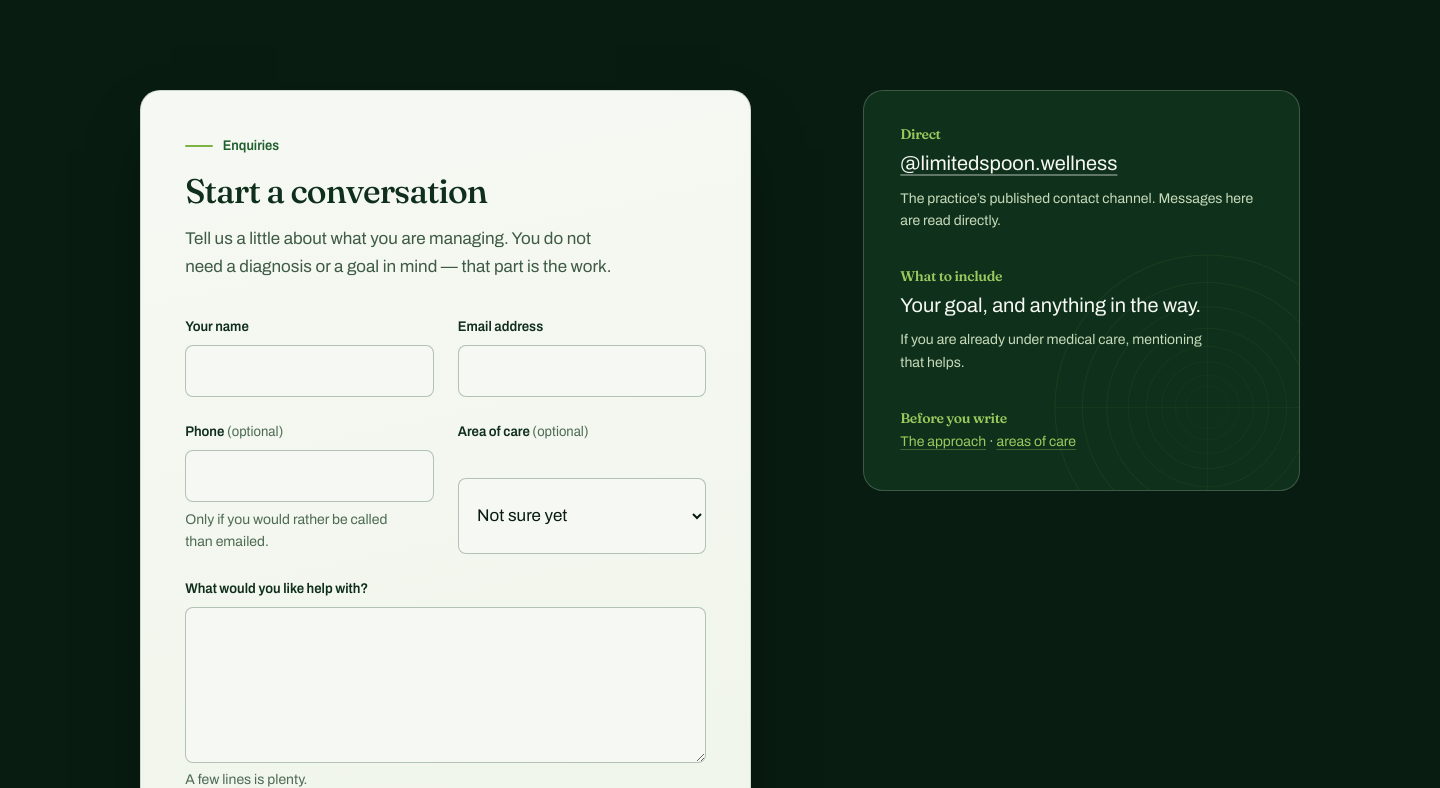
Contact enquiry form › requires meaningful copy, not a single character
Type "Priya Raman" into the field labelled "Your name" at (310, 371), box [185,345,434,397]
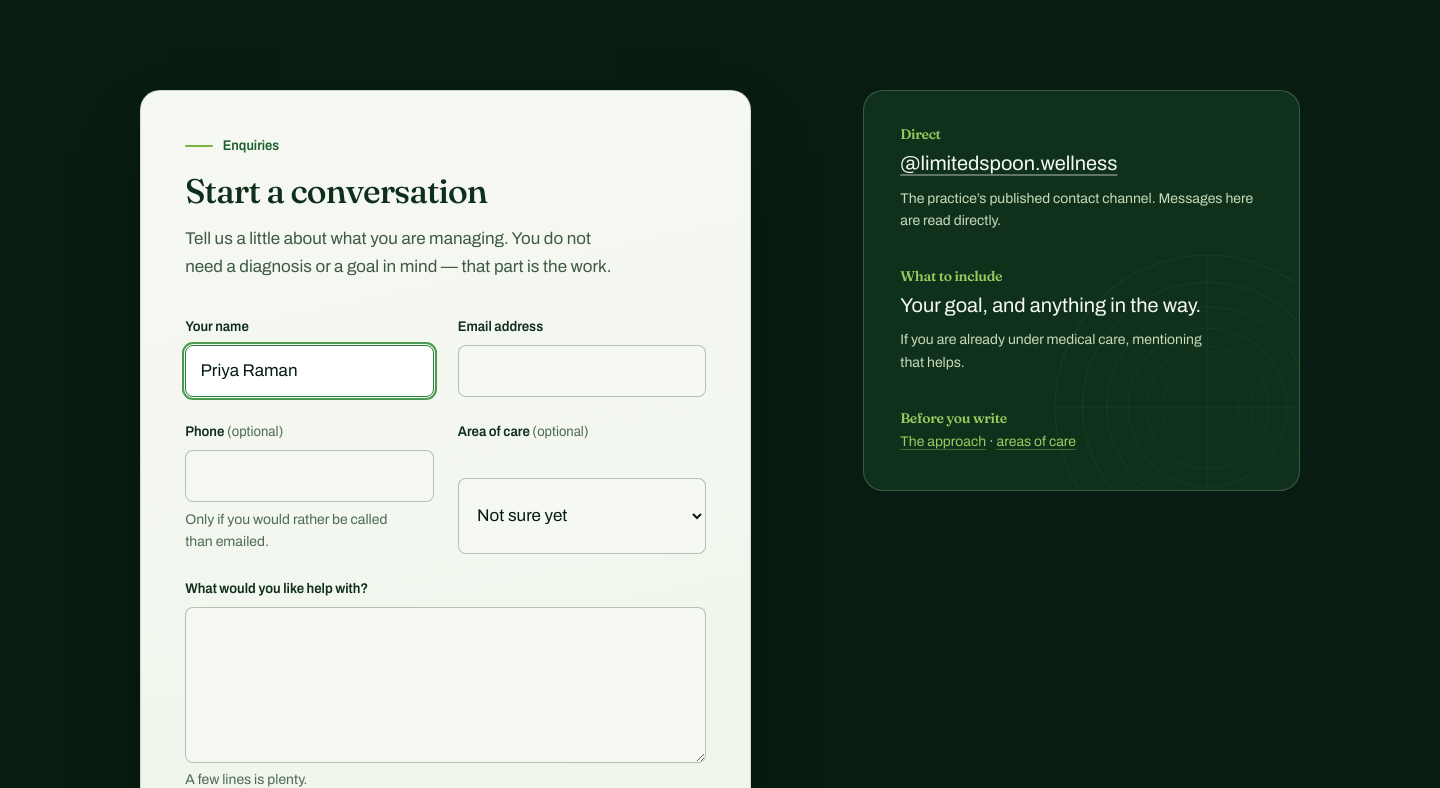
Type "priya@example.com" into the field labelled "Email address" at (582, 371), box [458,345,706,397]
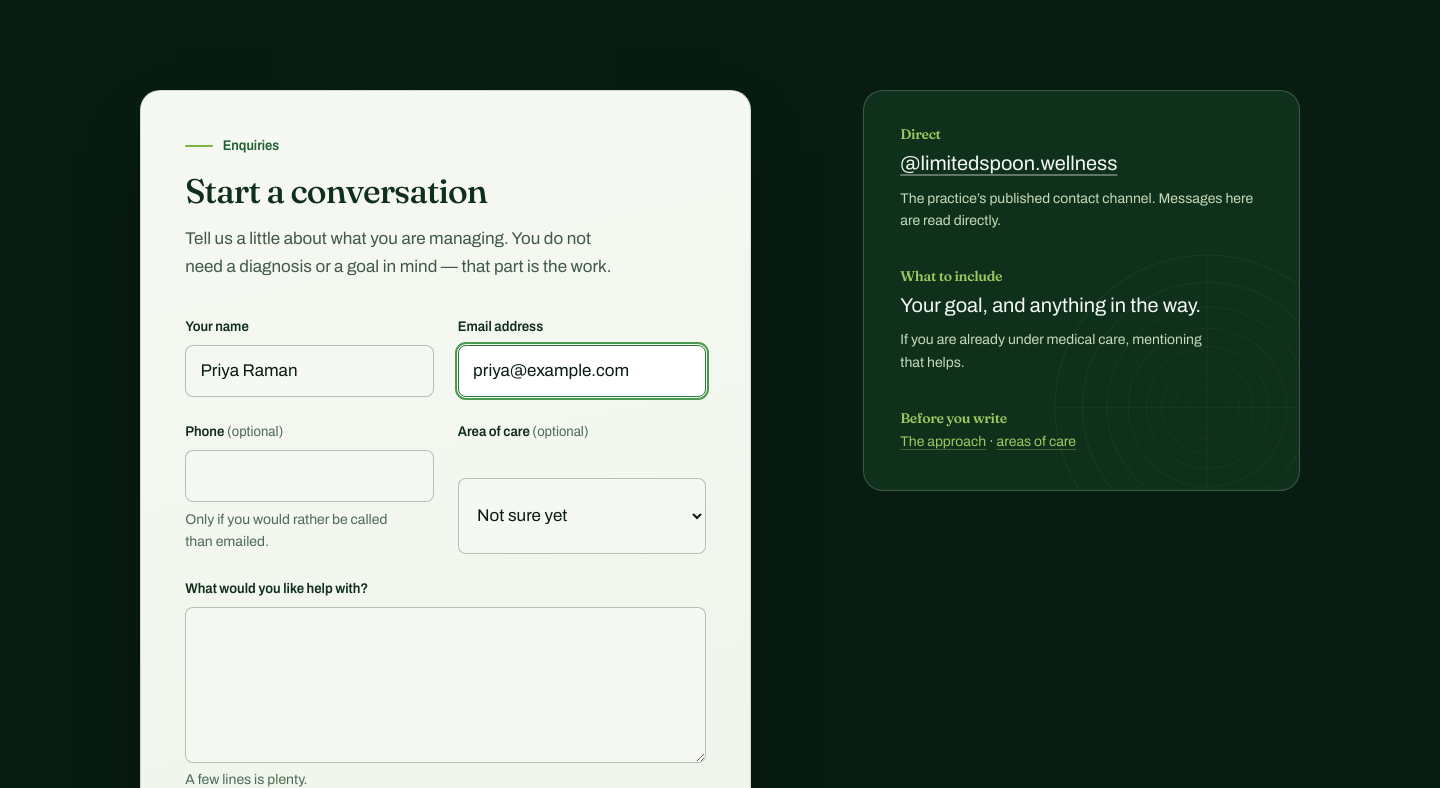
Type "hi" into the text box labelled "What would you like help with?" at (446, 685), box [185,607,706,763]
(page scrolled)
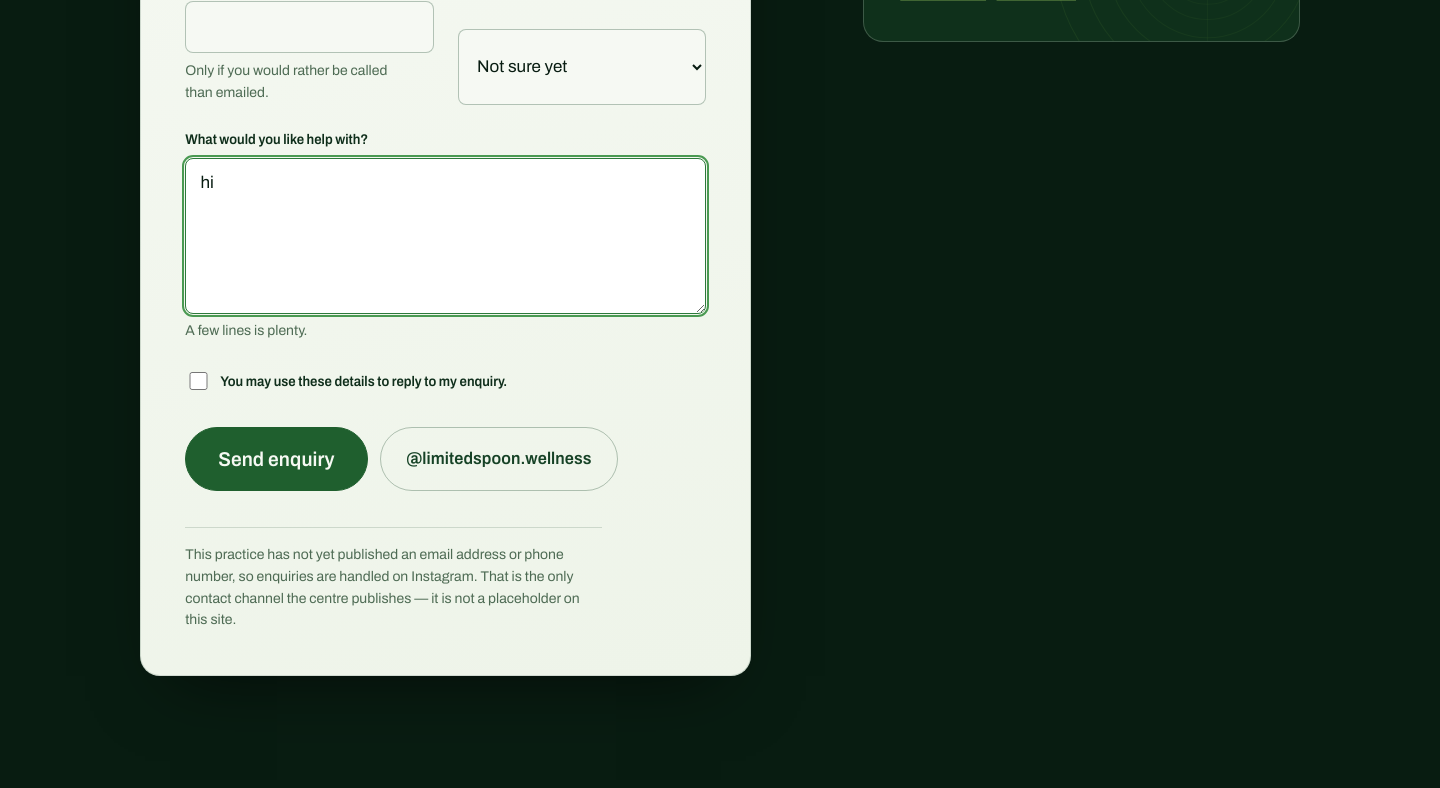
Click the button "Send enquiry" at (276, 459), box [185,427,368,491]
(page scrolled)
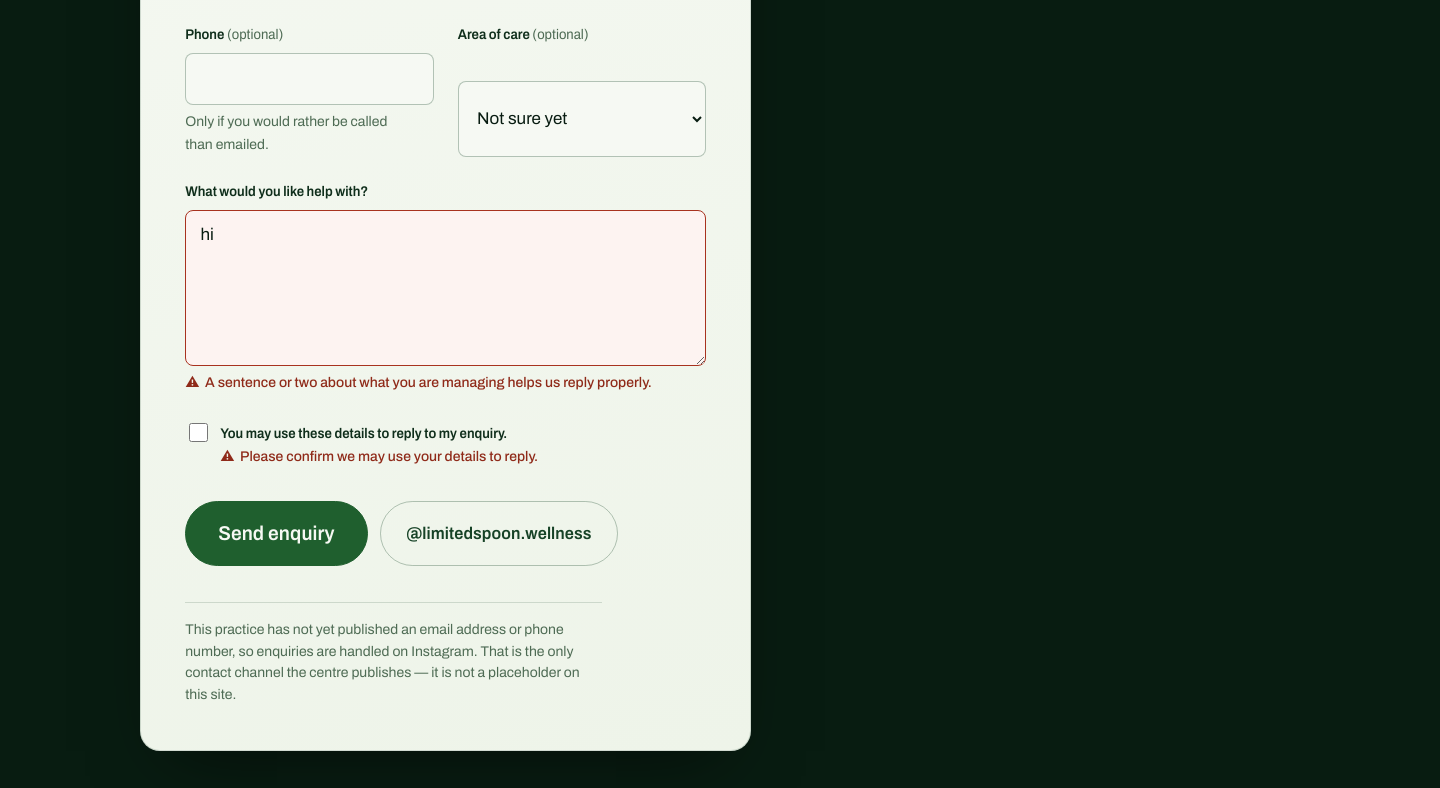
Expected: the text "sentence or two" is shown, [205,375,652,390]
